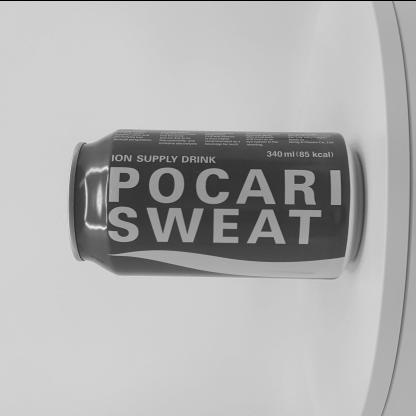alumunium_can: (60, 118, 372, 280)
